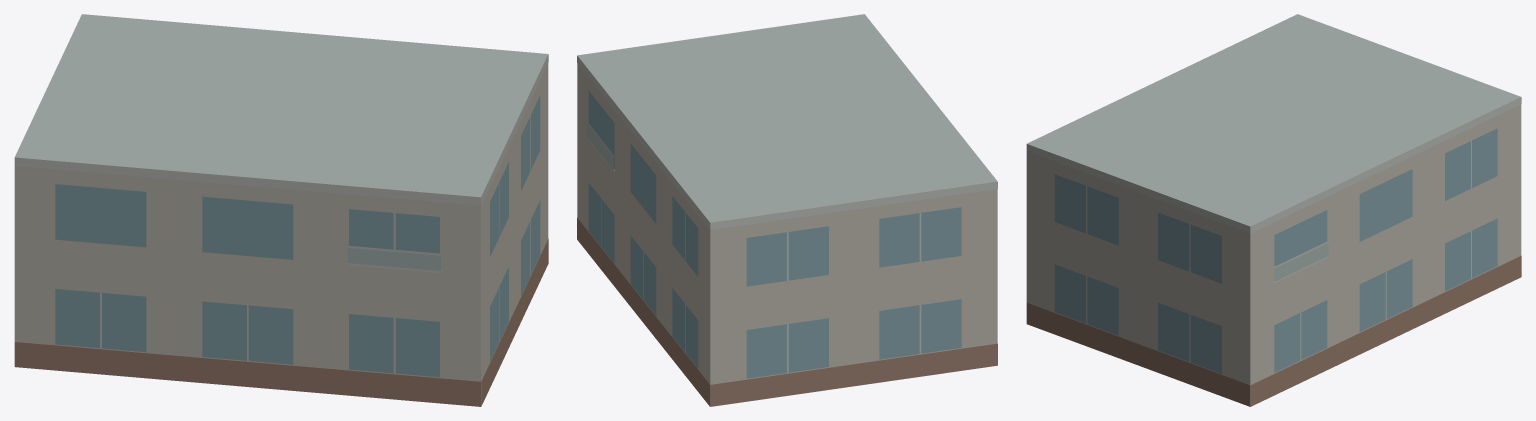
Rendered from survey-upis-32708074.glb.
3 views of the same model, side by side, from view 1: azimuth 30°, elevation 25°; view 2: azimuth 150°, elevation 25°; view 3: azimuth 270°, elevation 25° (orthographic). The views are drawn at different scales.
Visible parts, largest first — view 1: survey-upis-32708074.tmp; view 2: survey-upis-32708074.tmp; view 3: survey-upis-32708074.tmp.
Part boxes in pixels (x1,y1,x2,y2): survey-upis-32708074.tmp: [14, 14, 548, 406]; survey-upis-32708074.tmp: [577, 14, 997, 406]; survey-upis-32708074.tmp: [1026, 14, 1521, 406].
Size of the model in its own units: 15.43 by 6.1 by 15.18.
